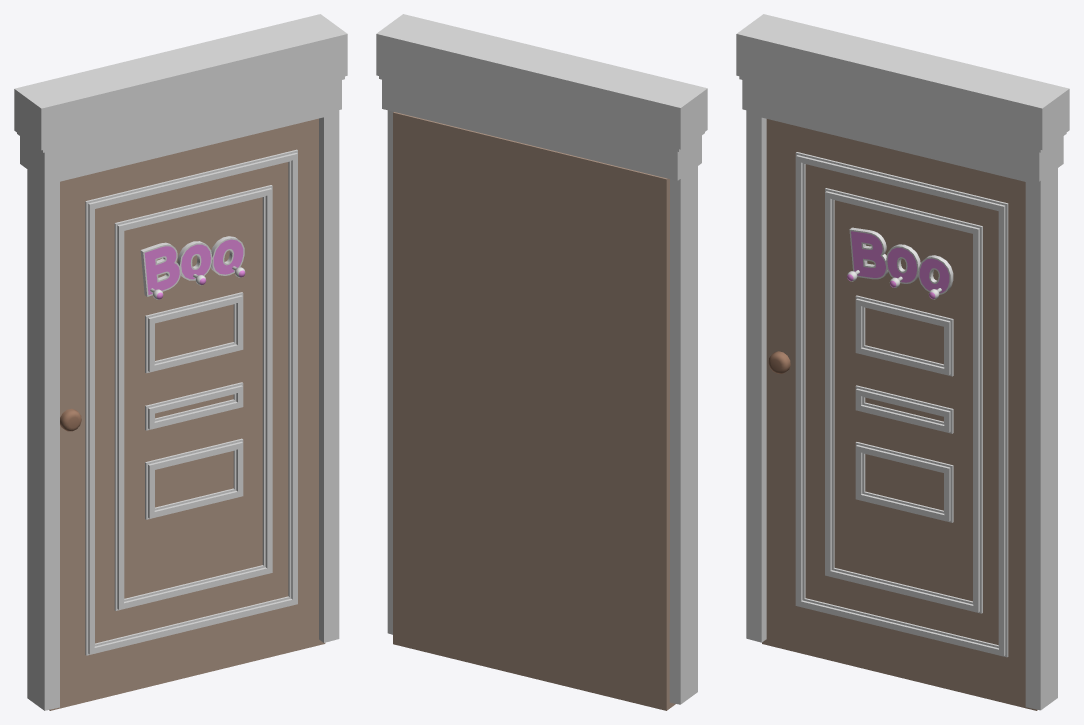
File: porte.fbx
3 renders of one model, left to right at view 1: azimuth 30°, elevation 25°; view 2: azimuth 150°, elevation 25°; view 3: azimuth 330°, elevation 25°, orthographic.
Parts seen in each view (by area): view 1: porte, cube, cube1, polymsh, cube2, cube3, cube4; view 2: porte; view 3: porte, cube, cube1, polymsh, cube2, cube3, cube4.
Part boxes in pixels (x1,y1,x2,y2): porte: [14, 14, 347, 710]; cube: [85, 149, 297, 655]; cube1: [114, 185, 272, 610]; polymsh: [140, 236, 245, 299]; cube2: [145, 292, 243, 373]; cube3: [145, 438, 243, 519]; cube4: [145, 382, 243, 430]; porte: [376, 14, 707, 710]; porte: [736, 14, 1069, 710]; cube: [795, 152, 1008, 657]; cube1: [825, 188, 982, 613]; polymsh: [847, 227, 953, 299]; cube2: [855, 295, 953, 376]; cube3: [855, 442, 953, 522]; cube4: [855, 385, 953, 433].
Bounding box in the file's own units: 1.35 × 2.59 × 0.2318.
